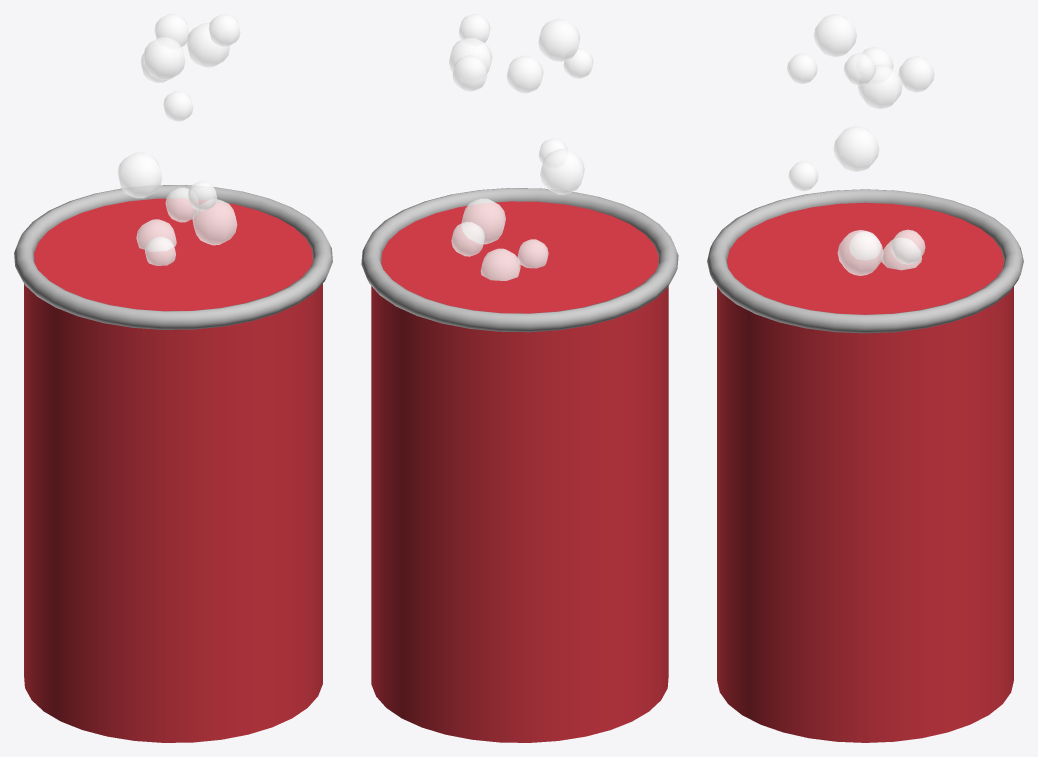
The model's file is soda_can.glb.
3 renders of one model, left to right at view 1: azimuth 30°, elevation 25°; view 2: azimuth 150°, elevation 25°; view 3: azimuth 270°, elevation 25°, orthographic.
Parts seen in each view (by area): view 1: model_soda_can; view 2: model_soda_can; view 3: model_soda_can.
Part boxes in pixels (left/top/right/bottom): model_soda_can: left=14, top=14, right=332, bottom=742; model_soda_can: left=361, top=14, right=678, bottom=742; model_soda_can: left=707, top=14, right=1023, bottom=742.
Bounding box in the file's own units: 1.92 × 4.36 × 1.92.
